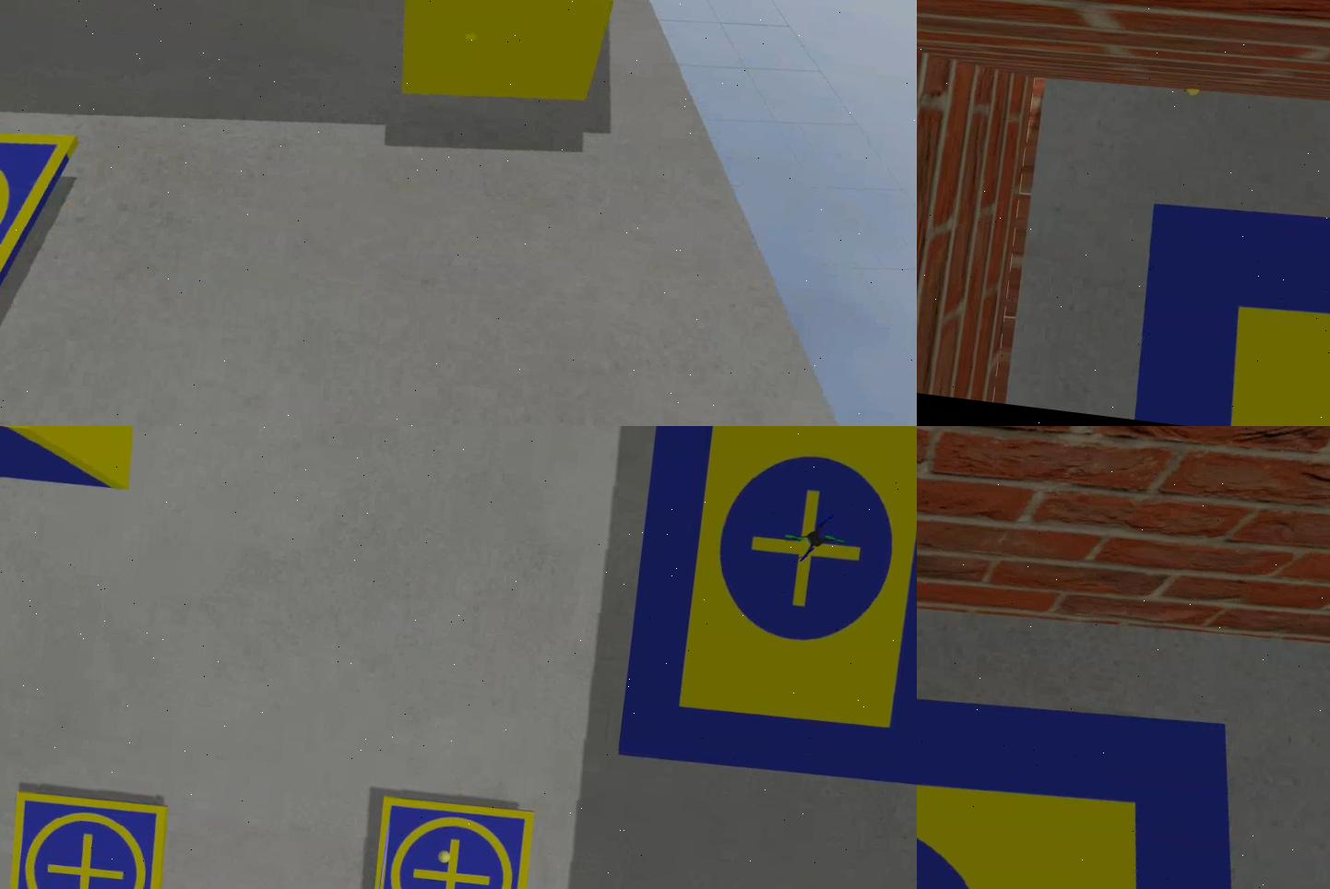large_base: (616, 427, 918, 794), (918, 631, 1309, 889), (1129, 174, 1330, 427)
small_base: (1, 122, 79, 371), (1, 788, 178, 889), (366, 792, 541, 889)
